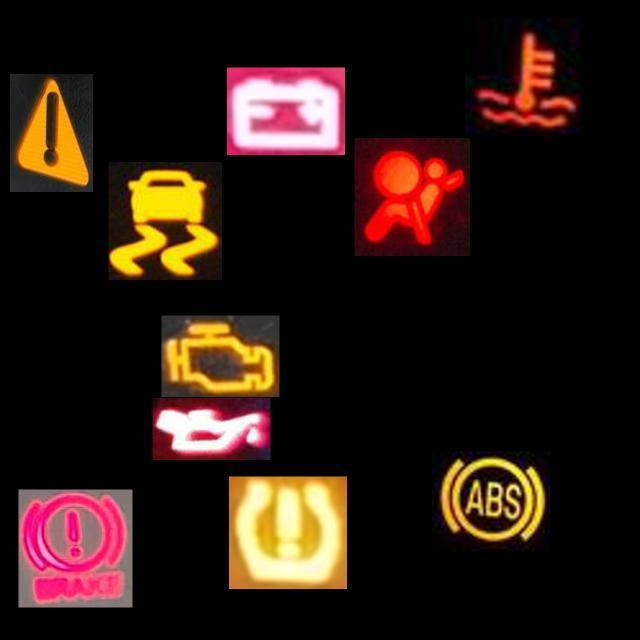Central Warning lamp: (10, 74, 93, 192)
Engine cooling system: (465, 18, 583, 136)
